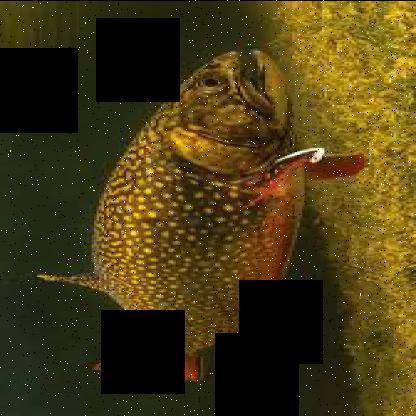fish: (37, 45, 365, 383)
